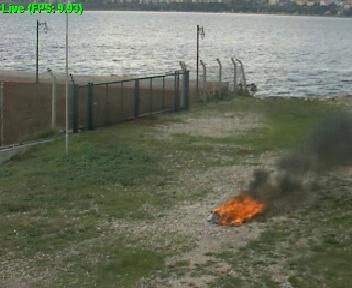fire: (208, 194, 266, 227)
smoke: (244, 112, 352, 215)
